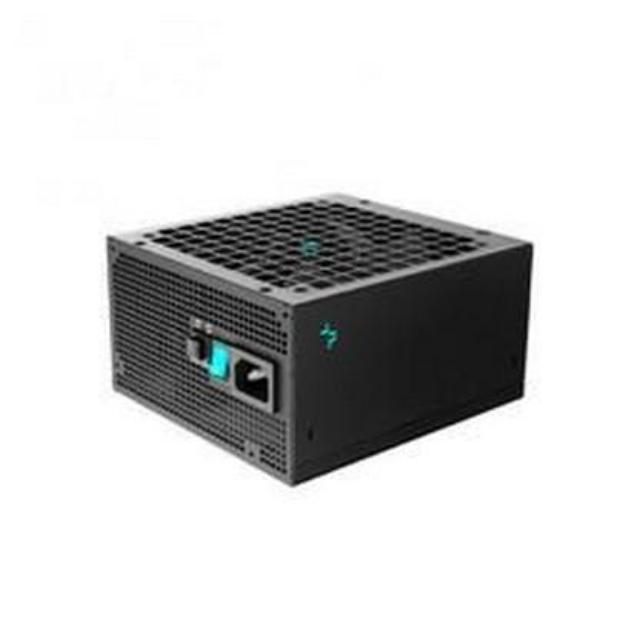PSU: (105, 180, 537, 498)
